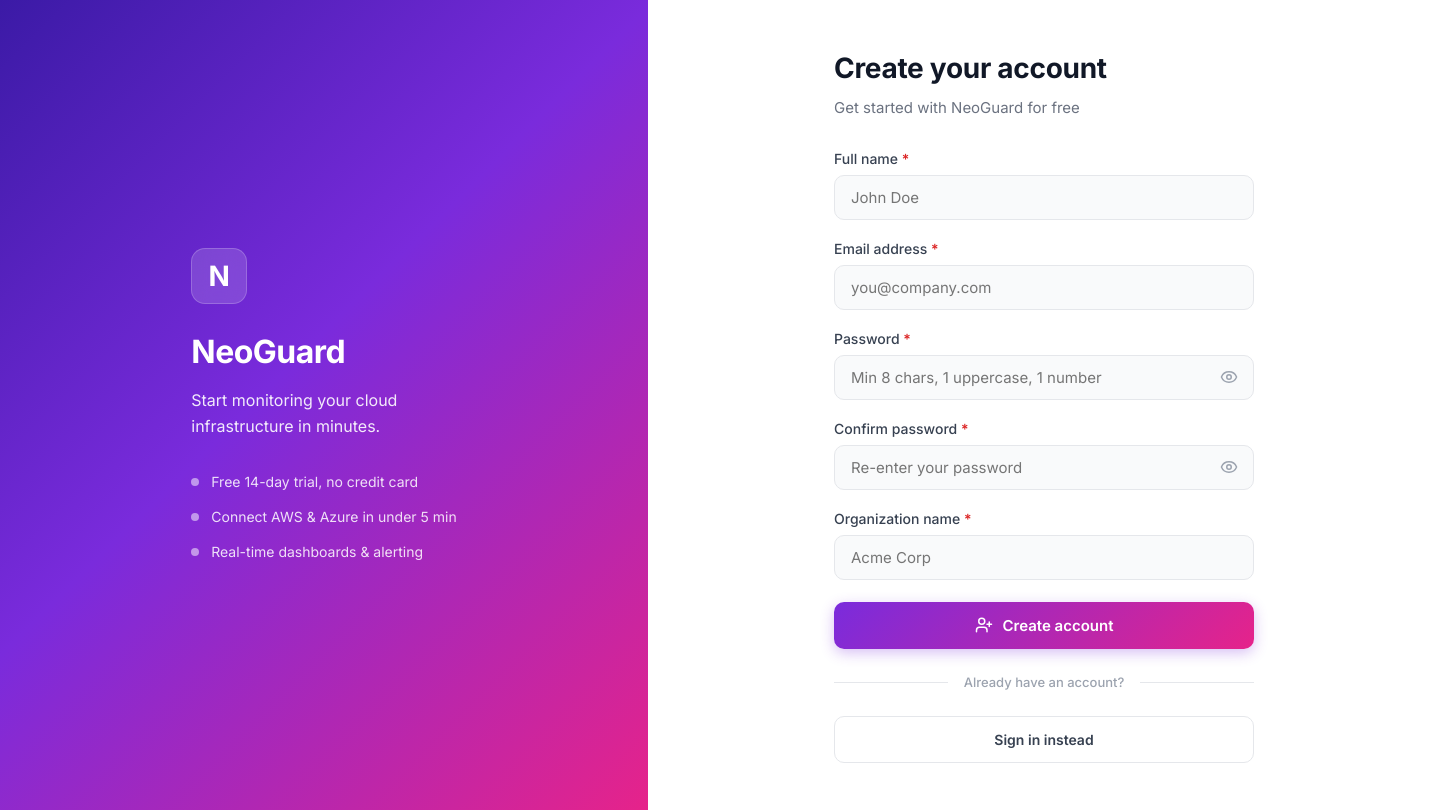
Test case: SignupPage › shows loading state while submitting
In the field with placeholder "John Doe": point(1044, 197) [834,174,1254,220], type "Test"
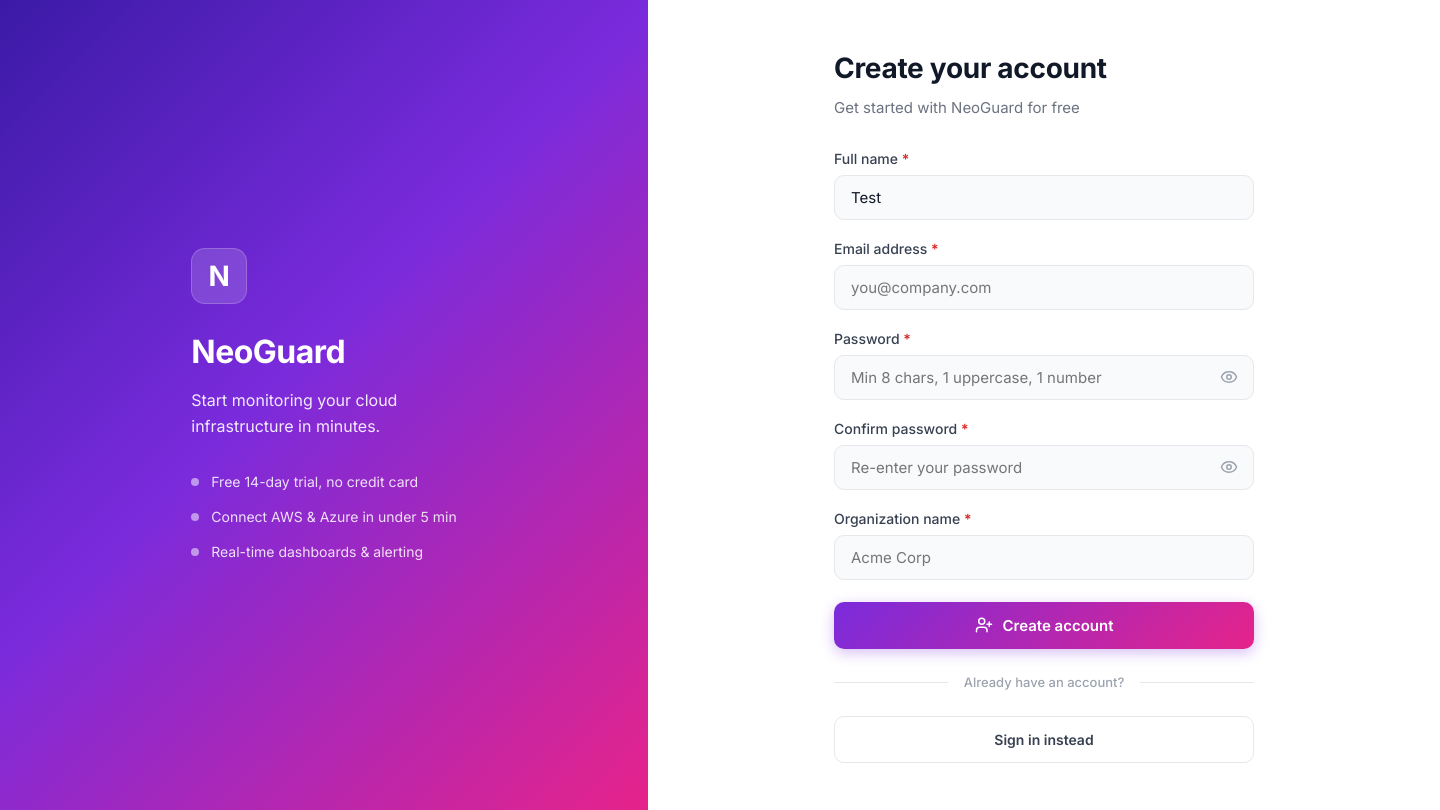
In the field with placeholder "you@company.com": point(1044, 287) [834,264,1254,310], type "t@t.com"
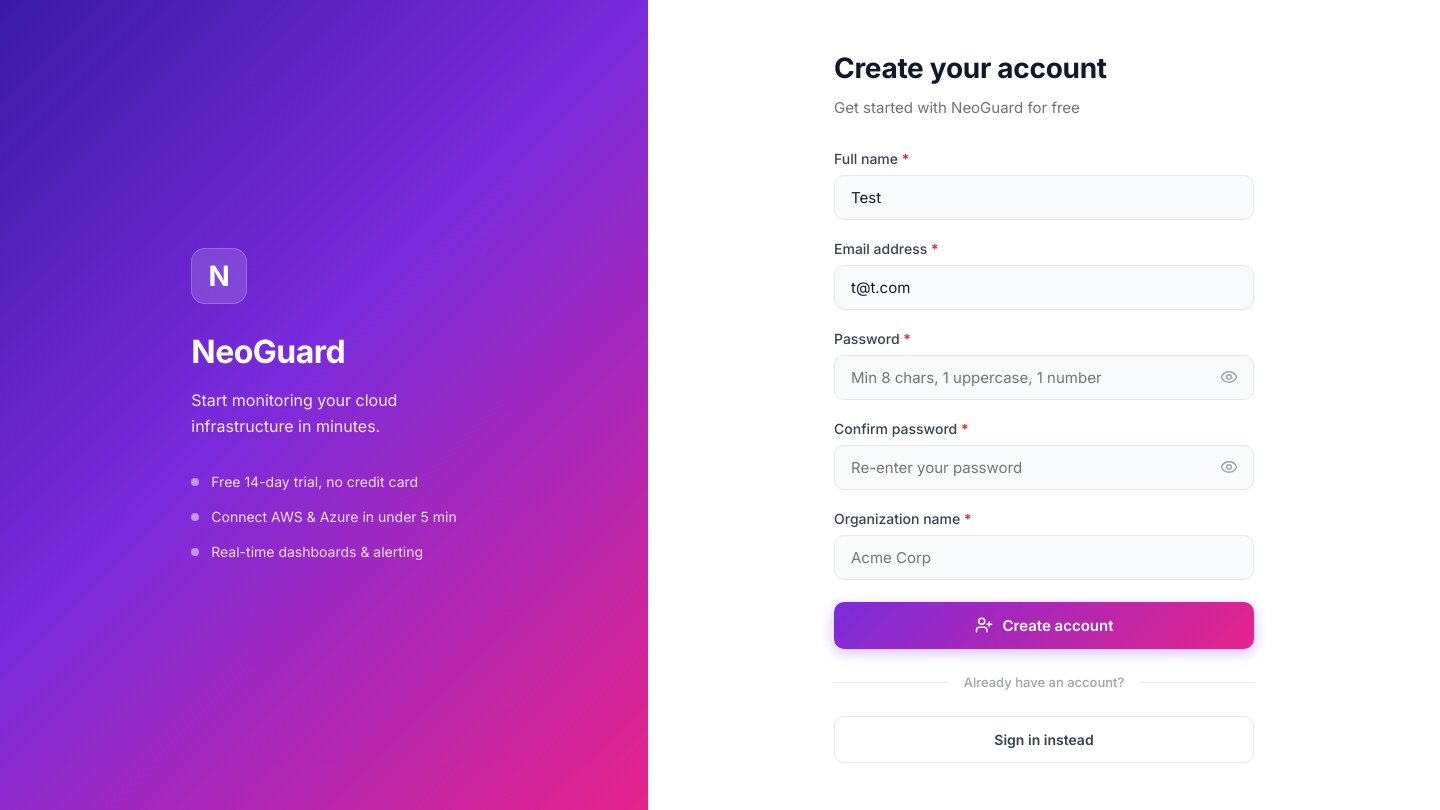
In the password field with placeholder "Min 8 chars, 1 uppercase, 1 number": point(1044, 377) [834,354,1254,400], type "Password1"
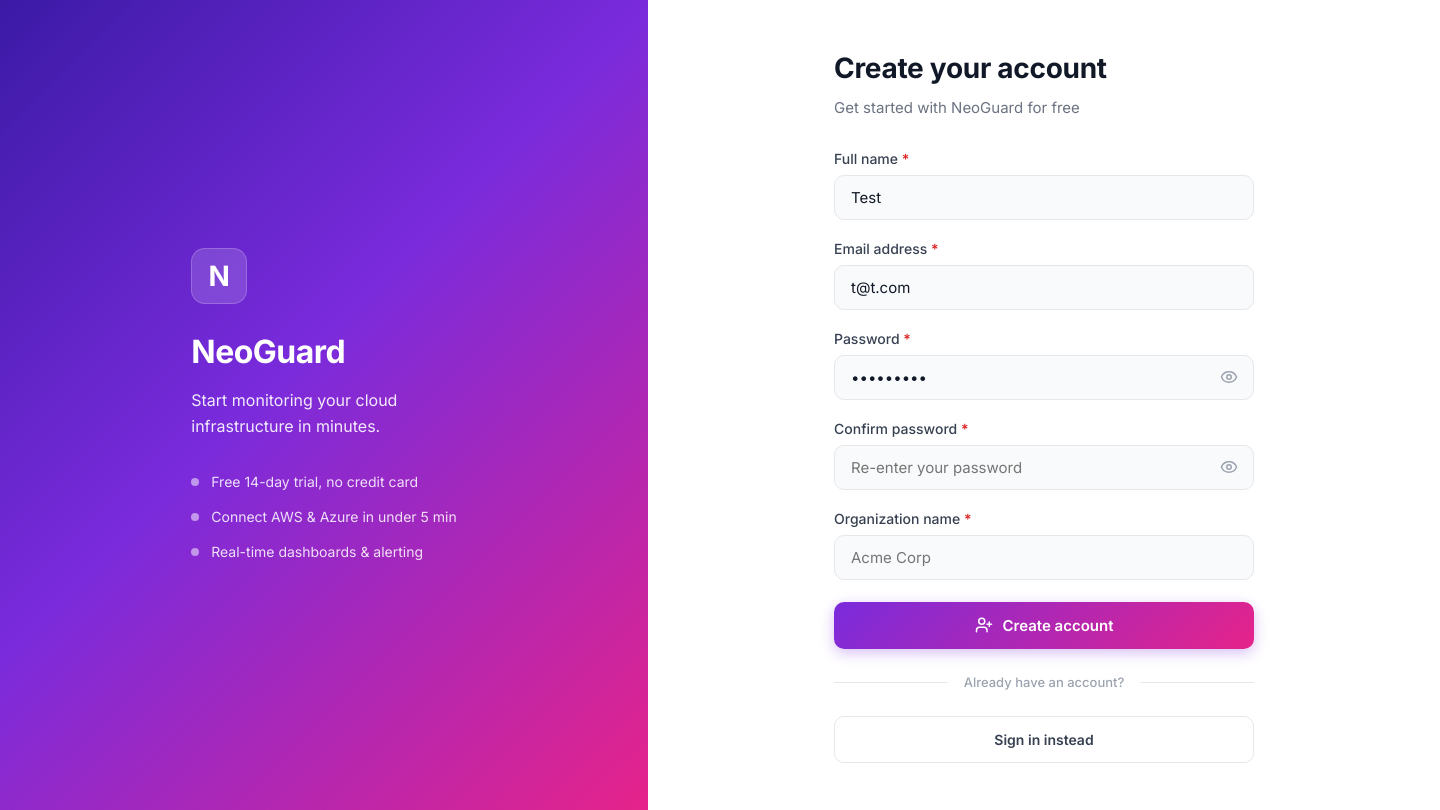
In the password field with placeholder "Re-enter your password": point(1044, 467) [834,444,1254,490], type "Password1"
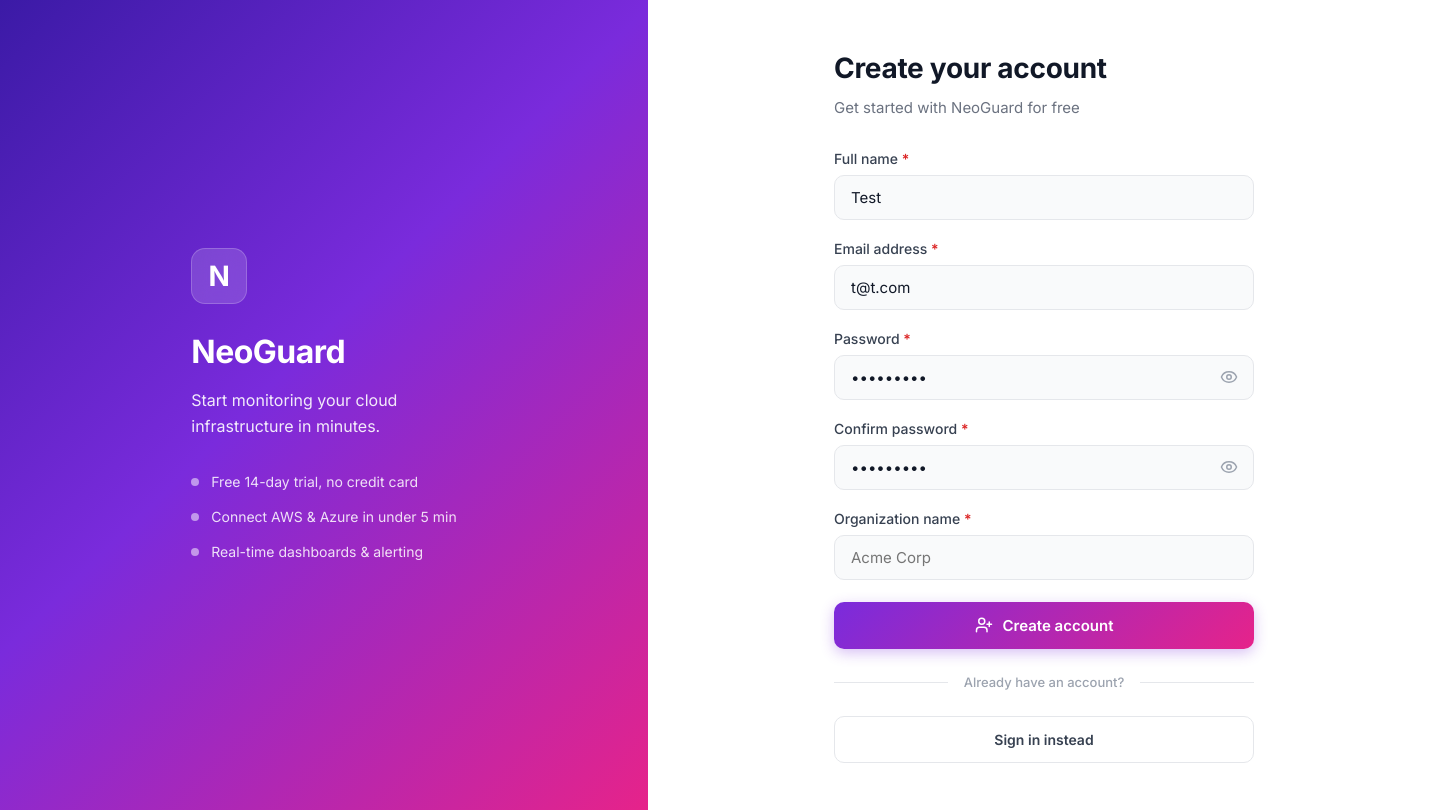
In the field with placeholder "Acme Corp": point(1044, 557) [834,534,1254,580], type "TestOrg"
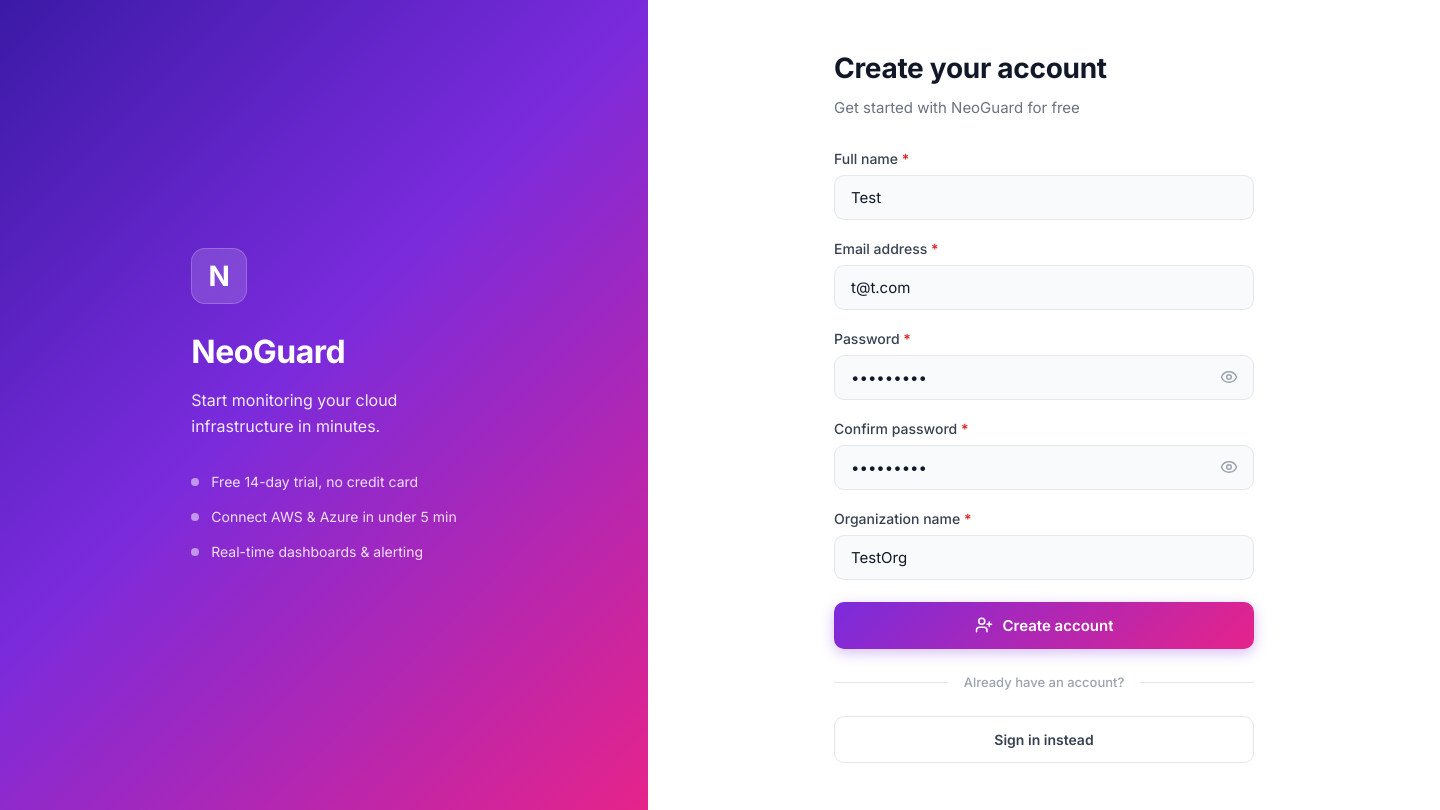
Click the button "Create account": point(1044, 625) [834,602,1254,648]
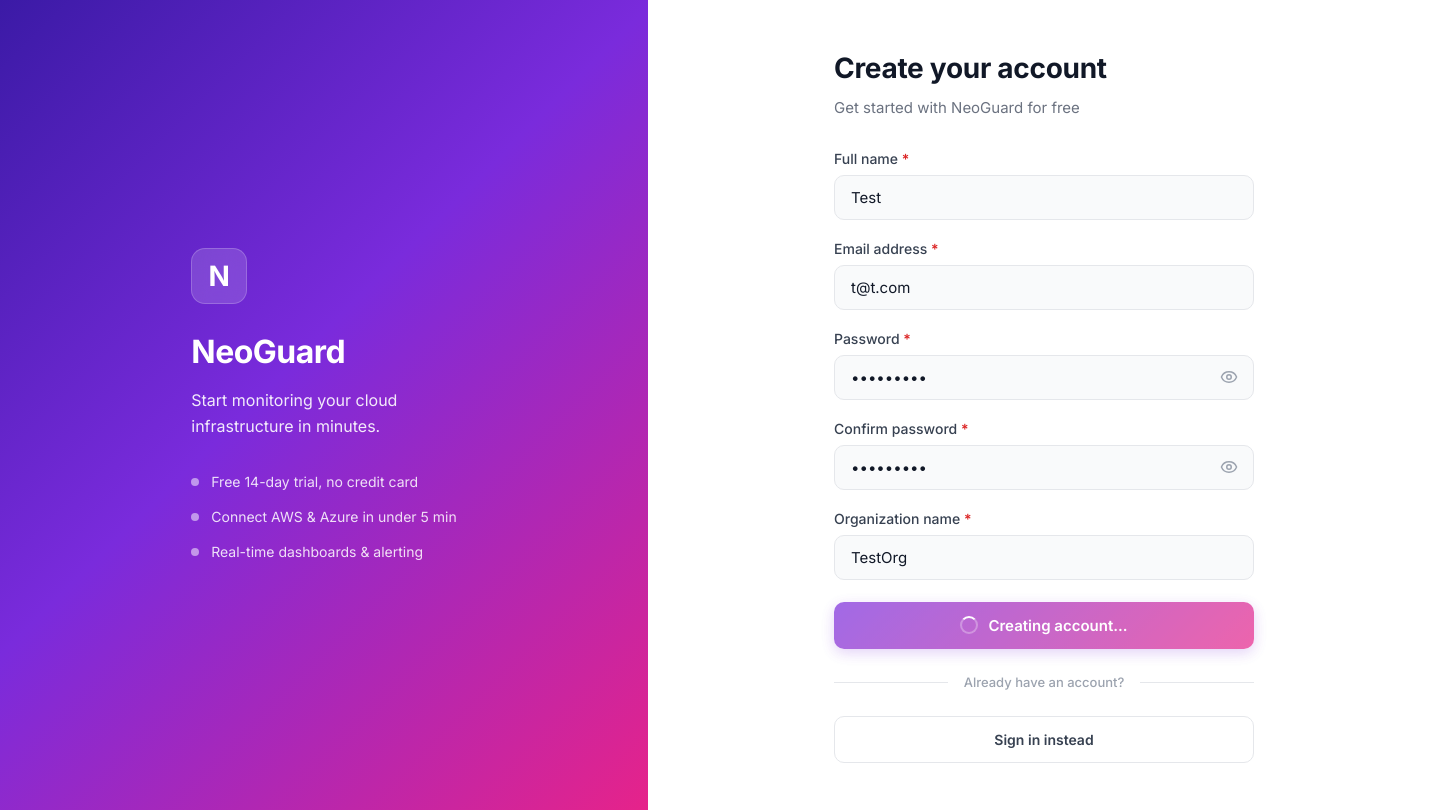
Expected: the button "Creating account..." is shown, [834,602,1254,648]
